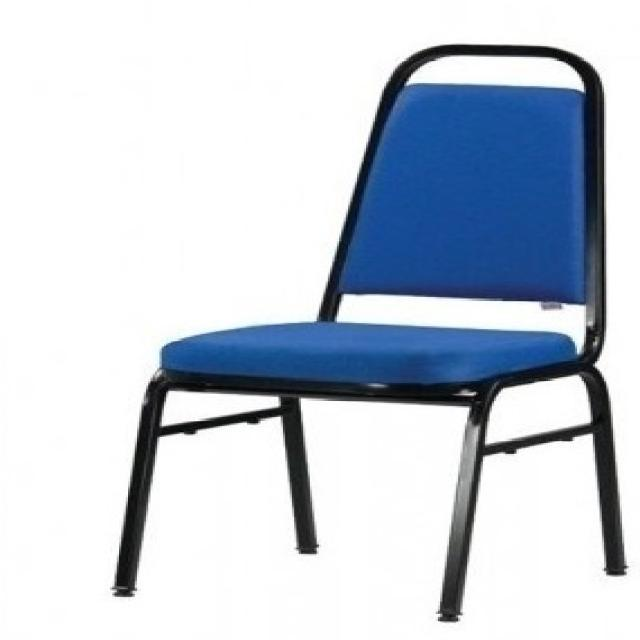chair: (110, 37, 631, 628)
